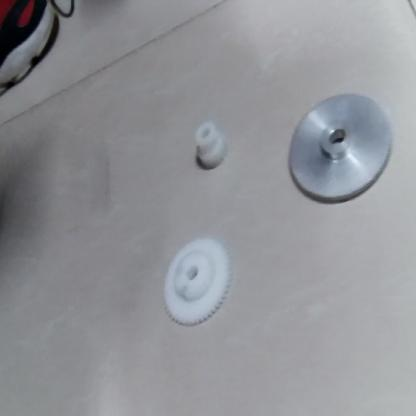FOD: (288, 84, 395, 207), (158, 235, 236, 334), (188, 113, 234, 174)
